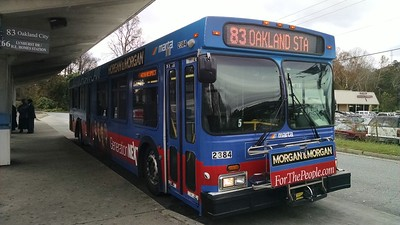bus: (67, 15, 351, 218)
